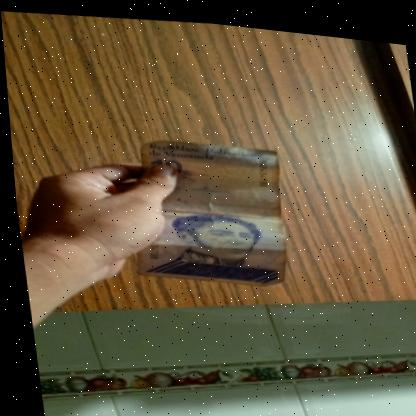ten-front-vef: (118, 128, 293, 290)
